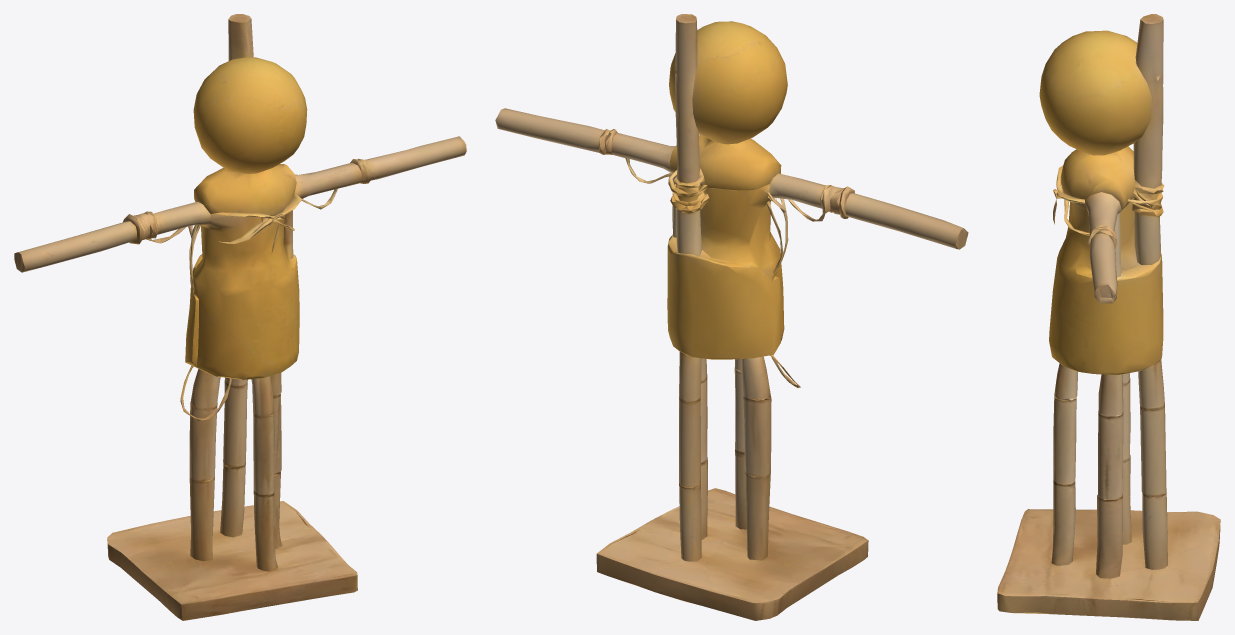
The model's file is trainingDummyT.glb.
3 renders of one model, left to right at view 1: azimuth 30°, elevation 25°; view 2: azimuth 150°, elevation 25°; view 3: azimuth 270°, elevation 25°, orthographic. The views are drawn at different scales.
Parts seen in each view (by area): view 1: model; view 2: model; view 3: model.
Boxes of the visible parts, bbox=[...] form: model: bbox=[14, 14, 466, 620]; model: bbox=[495, 14, 968, 620]; model: bbox=[997, 14, 1220, 620].
Size of the model in its own units: 1.66 by 1.9 by 0.6744.
Materials: 1 (1 with a texture image).
